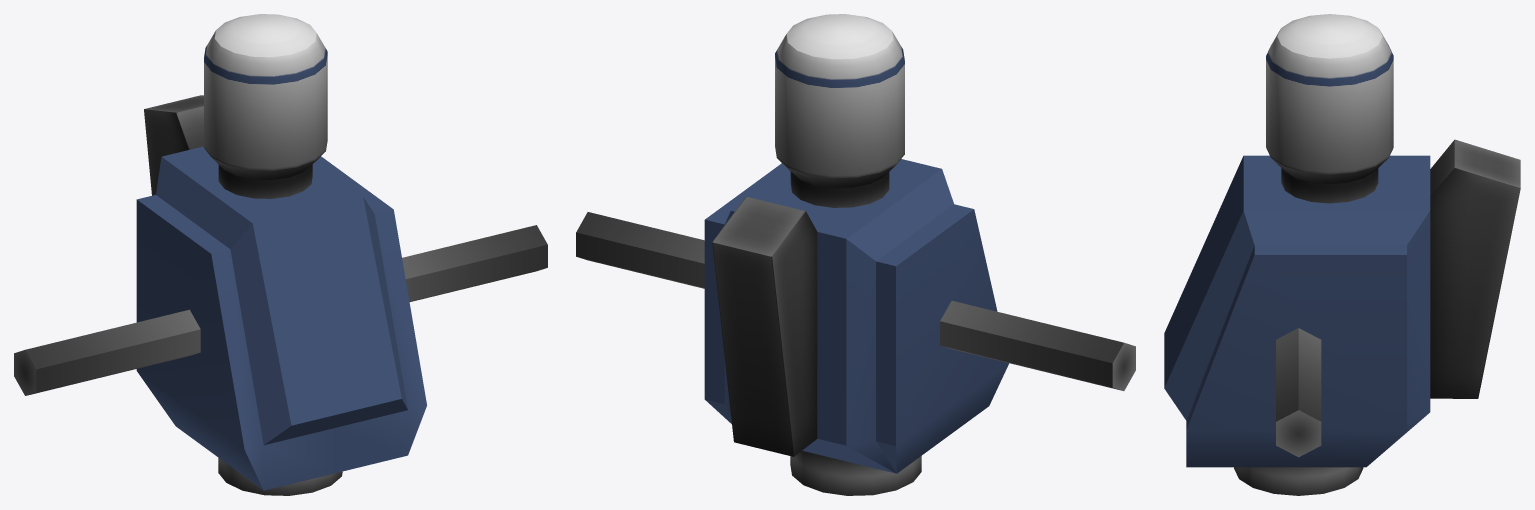
Rendered from Turret_Top.obj.
The picture shows the model from 3 angles, left to right: view 1: azimuth 30°, elevation 25°; view 2: azimuth 150°, elevation 25°; view 3: azimuth 270°, elevation 25°; orthographic projection. The views are drawn at different scales.
Visible parts, largest first — view 1: top Turret; view 2: top Turret; view 3: top Turret.
Boxes of the visible parts, box(x1,y1,x2,y2) form: top Turret: box(14, 14, 547, 495); top Turret: box(576, 14, 1135, 495); top Turret: box(1164, 14, 1520, 495).
Size of the model in its own units: 2.83 by 2.27 by 1.67.
